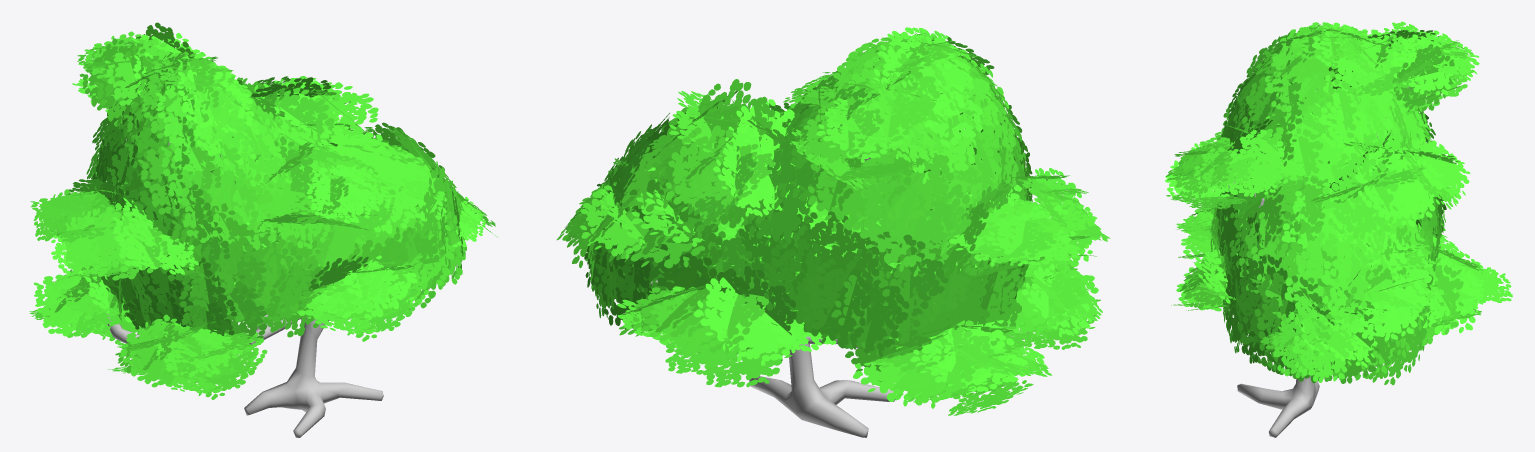
Rendered from Tree I 1.fbx.
3 views of the same model, side by side, from view 1: azimuth 30°, elevation 25°; view 2: azimuth 150°, elevation 25°; view 3: azimuth 270°, elevation 25° (orthographic). The views are drawn at different scales.
Visible parts, largest first — view 1: Tree I 1 LOD0; view 2: Tree I 1 LOD0; view 3: Tree I 1 LOD0.
Boxes of the visible parts, x1=… form: Tree I 1 LOD0: x1=29, y1=22, x2=498, y2=437; Tree I 1 LOD0: x1=556, y1=27, x2=1110, y2=437; Tree I 1 LOD0: x1=1165, y1=21, x2=1512, y2=437.
Size of what is drawn, in the model's own units: 14.03 by 14.53 by 18.88.
